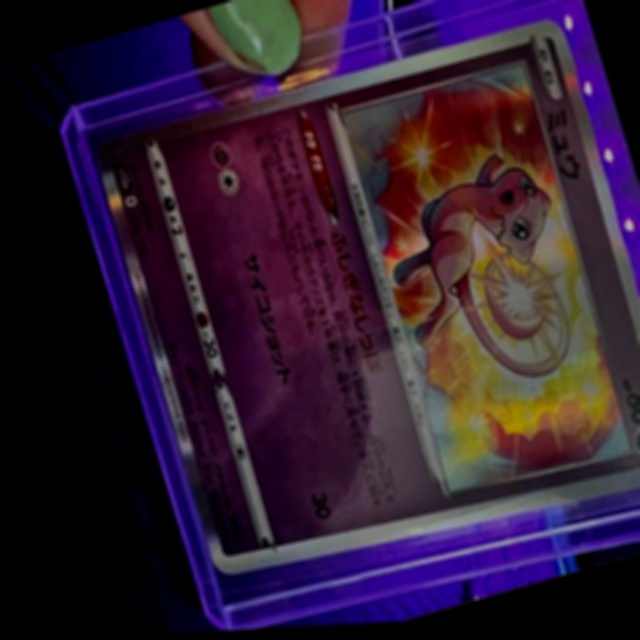card: (90, 24, 640, 581)
